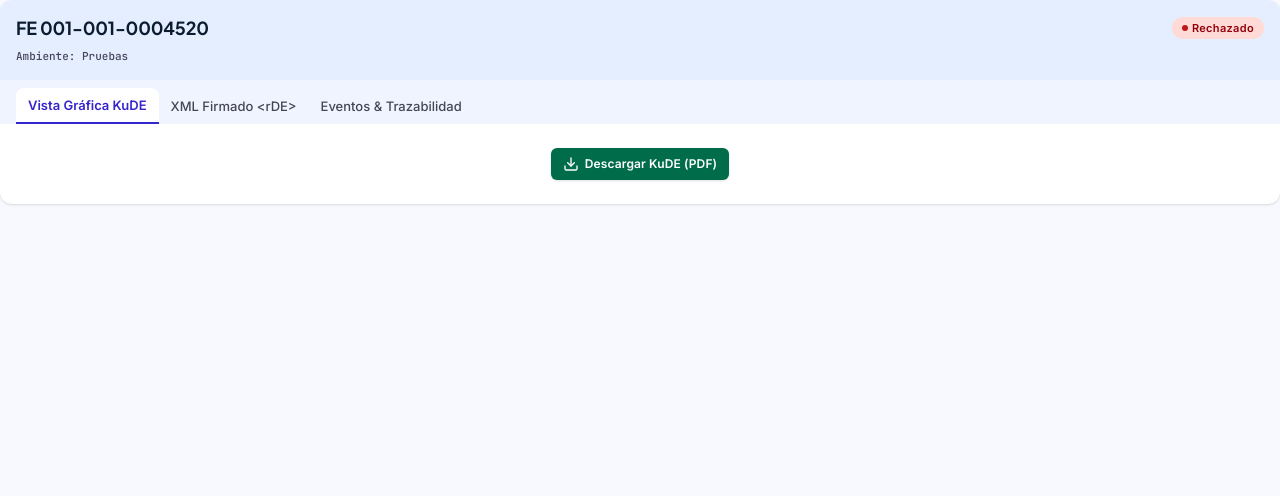
it: DocumentsDetail tabs › shows the rejection reason of a rejected document
What coordinates should you click on to do the following:
click the tab "Eventos & Trazabilidad"
I would click on:
 (391, 106)
Its box is [308,89,474,123].
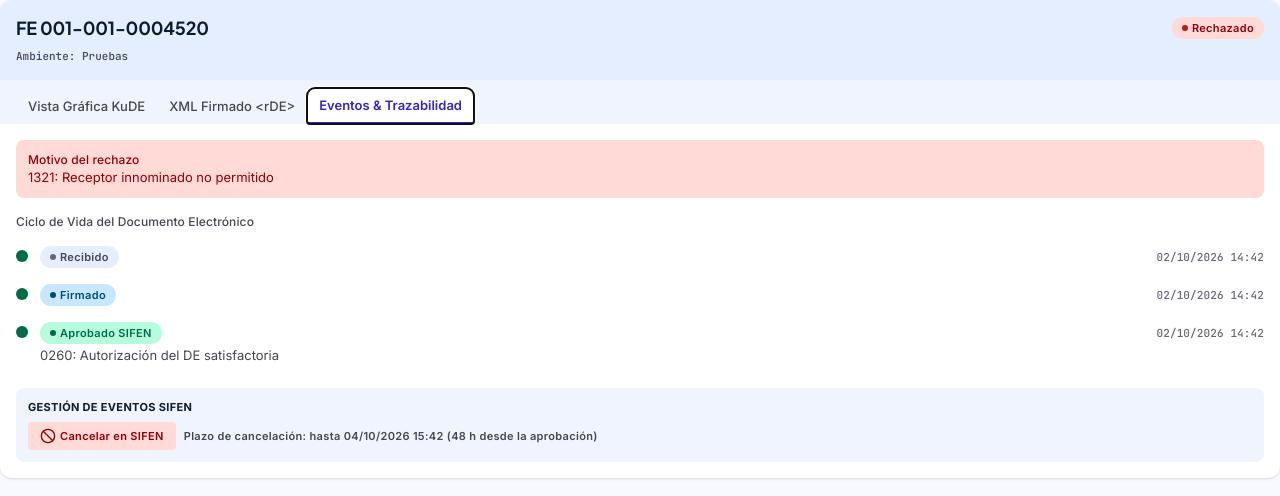
expect the message shows "Motivo del rechazo": met, box [28,152,140,167]
expect the message shows "1321: Receptor innominado no permitido": met, box [28,169,274,185]
